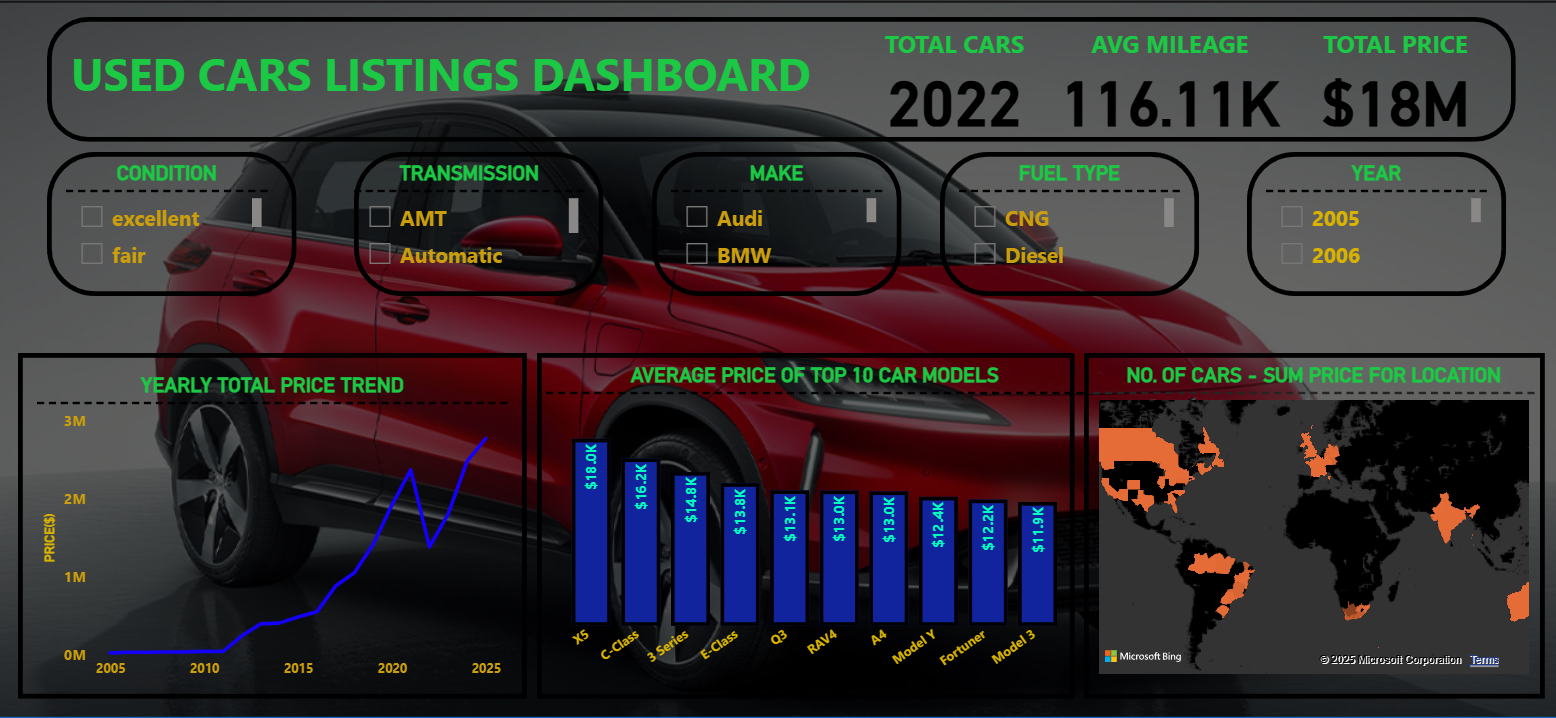

The page's visual inventory and layout, read from the dashboard file:
{"tool":"powerbi","page":{"name":"Page 1","canvas":[1300,800],"ordinal":0},"visuals":[{"type":"shape","box":[-4,96,1304,600],"z":0},{"type":"shape","box":[40,112,1224,104],"z":1000},{"type":"textbox","box":[0,128,736,72],"z":2000},{"type":"card","title":"TOTAL CARS","fields":{"Values":["CountNonNull(used_car_listings.listing_id)"]},"box":[704,120,184,88],"z":3000},{"type":"card","title":"AVG MILEAGE","fields":{"Values":["Avg(used_car_listings.mileage)"]},"box":[872,120,208,88],"z":4000},{"type":"card","title":"TOTAL PRICE","fields":{"Values":["Sum(used_car_listings.price)"]},"box":[1072,120,184,88],"z":5000},{"type":"shape","box":[40,224,208,120],"z":6000},{"type":"slicer","title":"CONDITION","fields":{"Values":["used_car_listings.condition"]},"box":[56,232,168,104],"z":7000},{"type":"shape","box":[296,224,208,120],"z":8000},{"type":"slicer","title":"TRANSMISSION","fields":{"Values":["used_car_listings.transmission"]},"box":[296,232,192,104],"z":9000},{"type":"shape","box":[544,224,208,120],"z":10000},{"type":"slicer","title":"MAKE","fields":{"Values":["used_car_listings.make"]},"box":[560,232,176,104],"z":11000},{"type":"shape","box":[784,224,216,120],"z":12000},{"type":"slicer","title":"FUEL TYPE","fields":{"Values":["used_car_listings.fuel_type"]},"box":[800,232,184,104],"z":13000},{"type":"shape","box":[1040,224,216,120],"z":14000},{"type":"slicer","title":"YEAR","fields":{"Values":["used_car_listings.year"]},"box":[1056,232,184,104],"z":15000},{"type":"lineChart","title":"YEARLY TOTAL PRICE TREND","fields":{"Y":["Sum(used_car_listings.price)"],"Category":["used_car_listings.year"]},"box":[32,408,392,264],"z":16000},{"type":"shape","box":[16,392,424,288],"z":17000},{"type":"shape","box":[448,392,448,288],"z":18000},{"type":"clusteredColumnChart","title":"AVERAGE PRICE OF TOP 10 CAR MODELS","fields":{"Category":["used_car_listings.model"],"Y":["Avg(used_car_listings.price)"]},"box":[456,400,448,264],"z":19000},{"type":"shape","box":[904,392,384,288],"z":20000},{"type":"filledMap","title":"NO. OF CARS - SUM PRICE FOR LOCATION","fields":{"Category":["used_car_listings.location"]},"box":[912,400,368,264],"z":21000}]}

Visuals, with their boxes on the page's 1300x800 design canvas (x1, y1, x2, y2). These are canvas units, not pixel positions in the 1556x718 screenshot, which may show the page scaled, cropped or inside an application window:
shape: {"x1": -4, "y1": 96, "x2": 1300, "y2": 696}
shape: {"x1": 40, "y1": 112, "x2": 1264, "y2": 216}
textbox: {"x1": 0, "y1": 128, "x2": 736, "y2": 200}
"TOTAL CARS" card: {"x1": 704, "y1": 120, "x2": 888, "y2": 208}
"AVG MILEAGE" card: {"x1": 872, "y1": 120, "x2": 1080, "y2": 208}
"TOTAL PRICE" card: {"x1": 1072, "y1": 120, "x2": 1256, "y2": 208}
shape: {"x1": 40, "y1": 224, "x2": 248, "y2": 344}
"CONDITION" slicer: {"x1": 56, "y1": 232, "x2": 224, "y2": 336}
shape: {"x1": 296, "y1": 224, "x2": 504, "y2": 344}
"TRANSMISSION" slicer: {"x1": 296, "y1": 232, "x2": 488, "y2": 336}
shape: {"x1": 544, "y1": 224, "x2": 752, "y2": 344}
"MAKE" slicer: {"x1": 560, "y1": 232, "x2": 736, "y2": 336}
shape: {"x1": 784, "y1": 224, "x2": 1000, "y2": 344}
"FUEL TYPE" slicer: {"x1": 800, "y1": 232, "x2": 984, "y2": 336}
shape: {"x1": 1040, "y1": 224, "x2": 1256, "y2": 344}
"YEAR" slicer: {"x1": 1056, "y1": 232, "x2": 1240, "y2": 336}
"YEARLY TOTAL PRICE TREND" lineChart: {"x1": 32, "y1": 408, "x2": 424, "y2": 672}
shape: {"x1": 16, "y1": 392, "x2": 440, "y2": 680}
shape: {"x1": 448, "y1": 392, "x2": 896, "y2": 680}
"AVERAGE PRICE OF TOP 10 CAR MODELS" clusteredColumnChart: {"x1": 456, "y1": 400, "x2": 904, "y2": 664}
shape: {"x1": 904, "y1": 392, "x2": 1288, "y2": 680}
"NO. OF CARS - SUM PRICE FOR LOCATION" filledMap: {"x1": 912, "y1": 400, "x2": 1280, "y2": 664}
